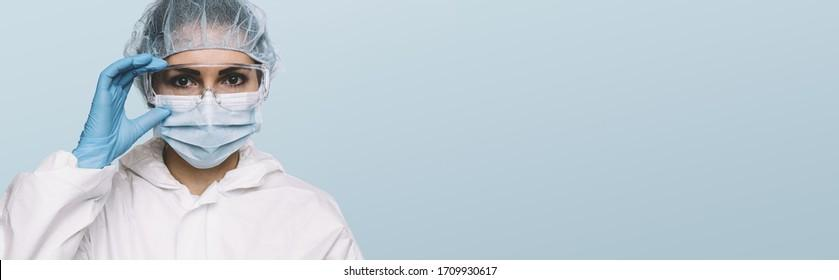gloves: (73, 54, 173, 169)
